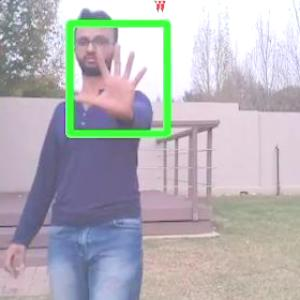follow_hand: (70, 39, 155, 122)
